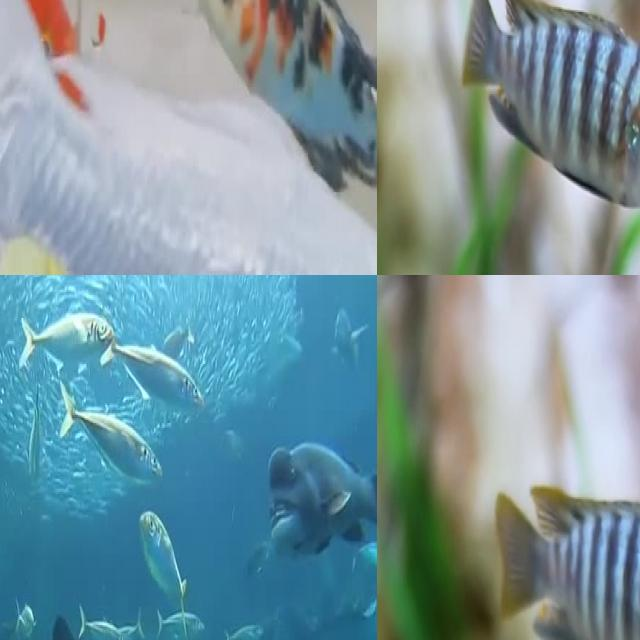fish: (0, 0, 377, 275), (458, 0, 640, 212), (487, 481, 640, 640)
